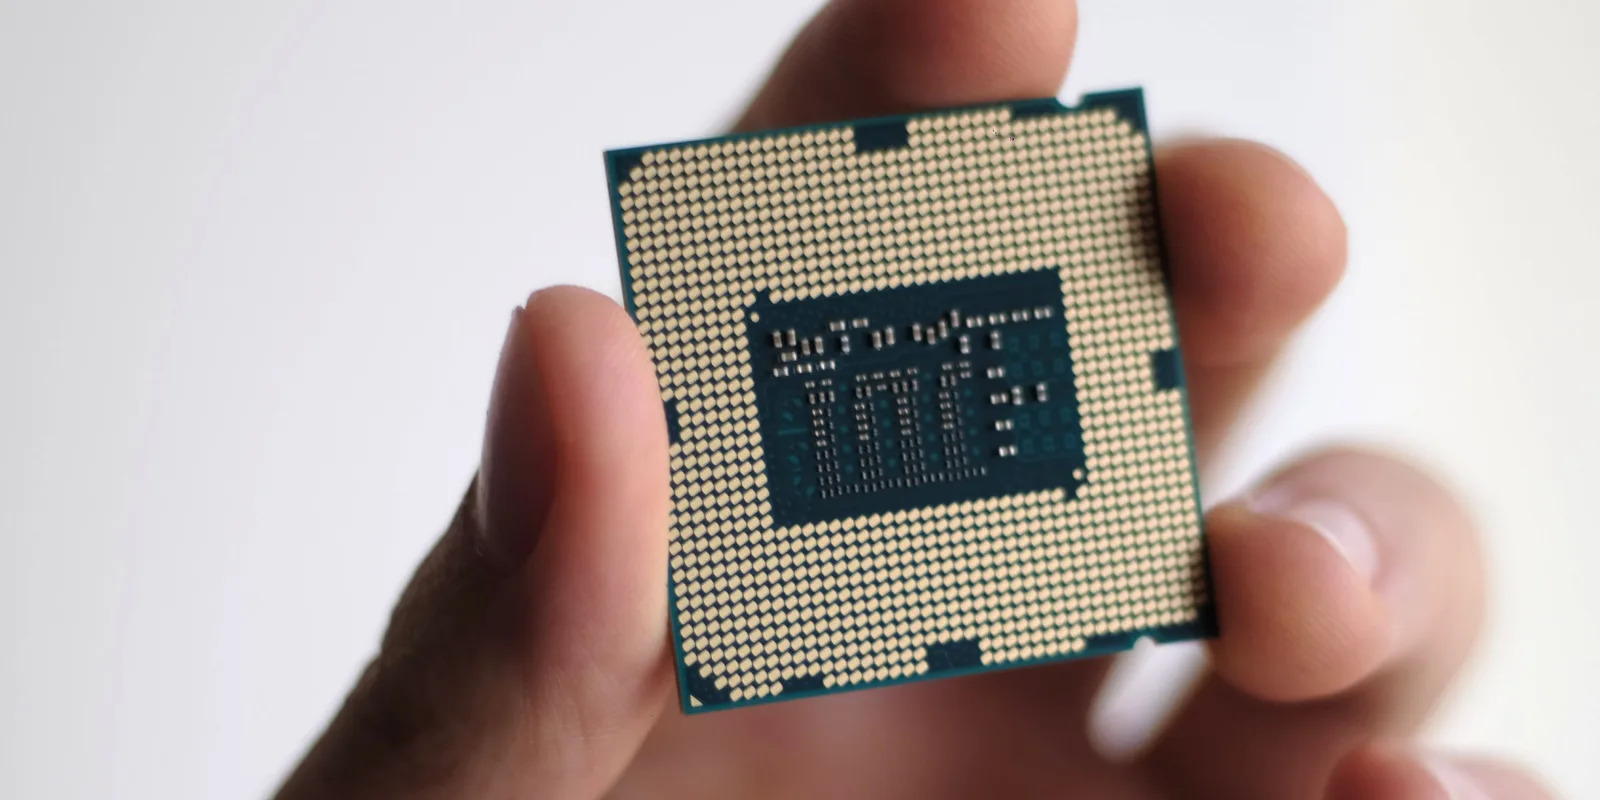processor: (601, 86, 1226, 719)
